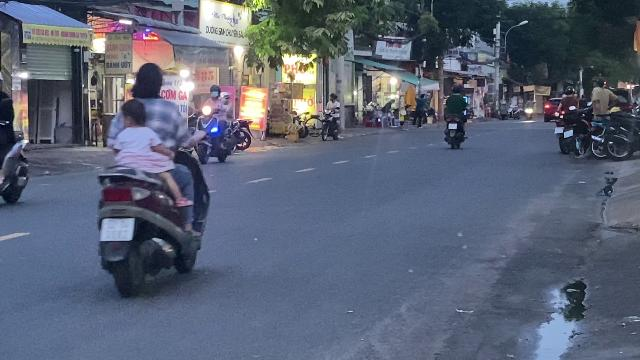licenseplate: (100, 218, 134, 241)
motorcyclist: (92, 61, 212, 298)
nohelmet: (129, 62, 165, 98), (119, 97, 147, 127)
